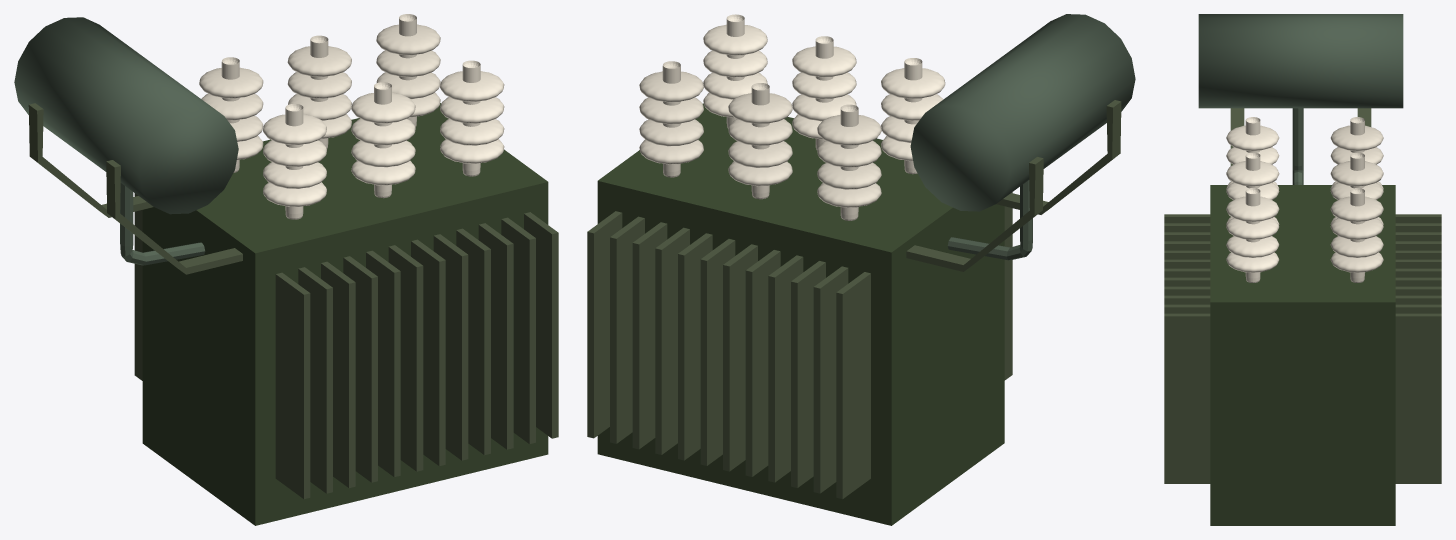
The model's file is Transformer.fbx.
3 renders of one model, left to right at view 1: azimuth 30°, elevation 25°; view 2: azimuth 150°, elevation 25°; view 3: azimuth 270°, elevation 25°, orthographic. The views are drawn at different scales.
Parts seen in each view (by area): view 1: TX_Tank, TX_Radiators_L, TX_Conservator, TX_Bushings_LV, TX_Bushings_HV, TX_support_beam2, TX_Pipe, TX_Support1_beam1, TX_Radiators_R; view 2: TX_Tank, TX_Radiators_R, TX_Conservator, TX_Bushings_HV, TX_Bushings_LV, TX_Support1_beam1, TX_support_beam2, TX_Pipe, TX_Radiators_L; view 3: TX_Tank, TX_Conservator, TX_Radiators_L, TX_Radiators_R, TX_Bushings_LV, TX_Bushings_HV, TX_Pipe.
Boxes of the visible parts, x1,y1,x2,y2 form: TX_Tank: (142, 103, 548, 525); TX_Radiators_L: (275, 212, 558, 499); TX_Conservator: (14, 17, 238, 214); TX_Bushings_LV: (263, 60, 504, 219); TX_Bushings_HV: (199, 14, 440, 172); TX_support_beam2: (106, 160, 242, 274); TX_Pipe: (120, 183, 205, 265); TX_Support1_beam1: (28, 103, 153, 217); TX_Radiators_R: (134, 193, 142, 380); TX_Tank: (597, 103, 1004, 525); TX_Radiators_R: (587, 211, 870, 498); TX_Conservator: (910, 14, 1135, 211); TX_Bushings_HV: (639, 61, 881, 220); TX_Bushings_LV: (703, 14, 945, 174); TX_Support1_beam1: (906, 157, 1043, 271); TX_support_beam2: (996, 100, 1121, 214); TX_Pipe: (947, 180, 1032, 260); TX_Radiators_L: (1004, 192, 1012, 380); TX_Tank: (1210, 185, 1395, 525); TX_Conservator: (1198, 14, 1403, 108); TX_Radiators_L: (1164, 214, 1210, 483); TX_Radiators_R: (1395, 214, 1441, 483); TX_Bushings_LV: (1226, 117, 1279, 282); TX_Bushings_HV: (1330, 117, 1383, 282); TX_Pipe: (1292, 108, 1303, 184).
Bounding box in the file's own units: 259 × 258 × 180.
